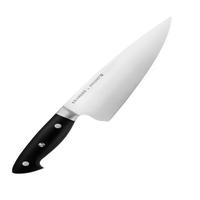knife: (11, 13, 176, 182)
